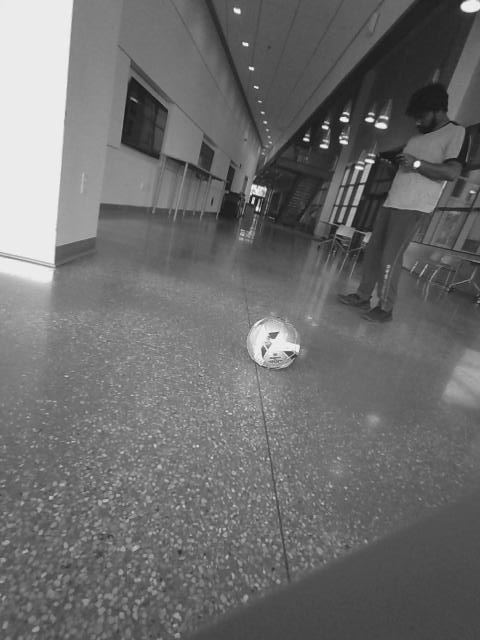ball: (242, 312, 308, 373)
